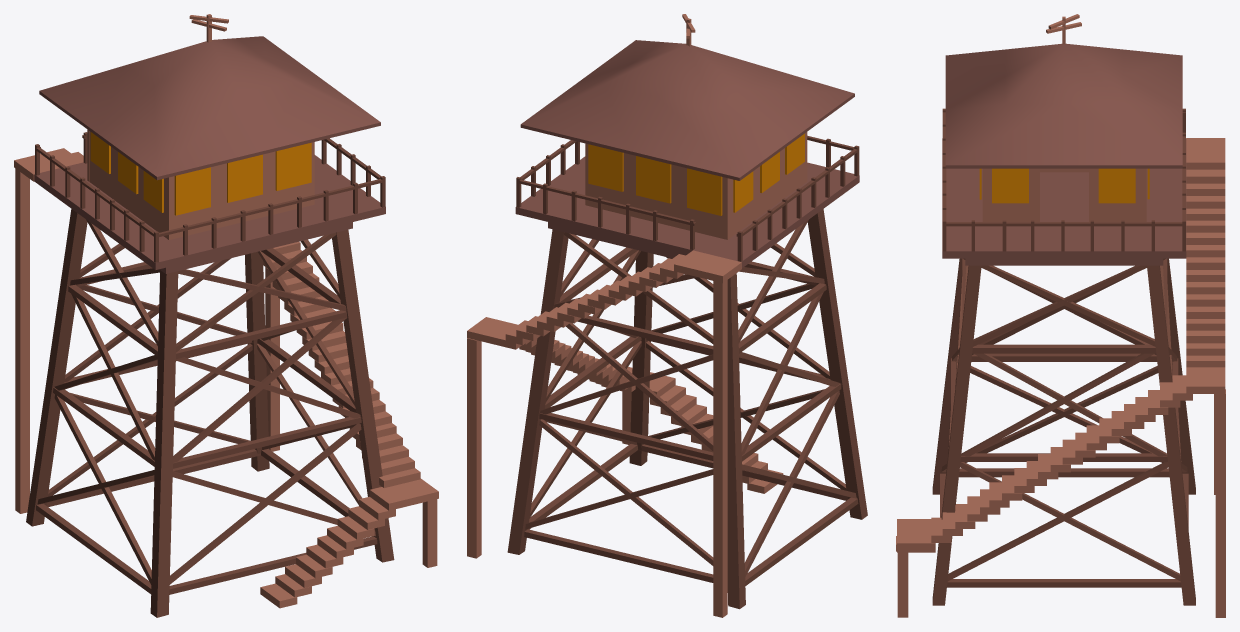
File: Watchtower_Final.fbx
The picture shows the model from 3 angles, left to right: view 1: azimuth 30°, elevation 25°; view 2: azimuth 150°, elevation 25°; view 3: azimuth 270°, elevation 25°; orthographic projection. The views are drawn at different scales.
Parts seen in each view (by area): view 1: Watchtower_Final_Combined; view 2: Watchtower_Final_Combined; view 3: Watchtower_Final_Combined.
Boxes of the visible parts, x1,y1,x2,y2 form: Watchtower_Final_Combined: (14, 14, 438, 617); Watchtower_Final_Combined: (467, 14, 867, 617); Watchtower_Final_Combined: (896, 14, 1225, 617).
Size of the model in its own units: 39.24 by 75.06 by 42.18.
